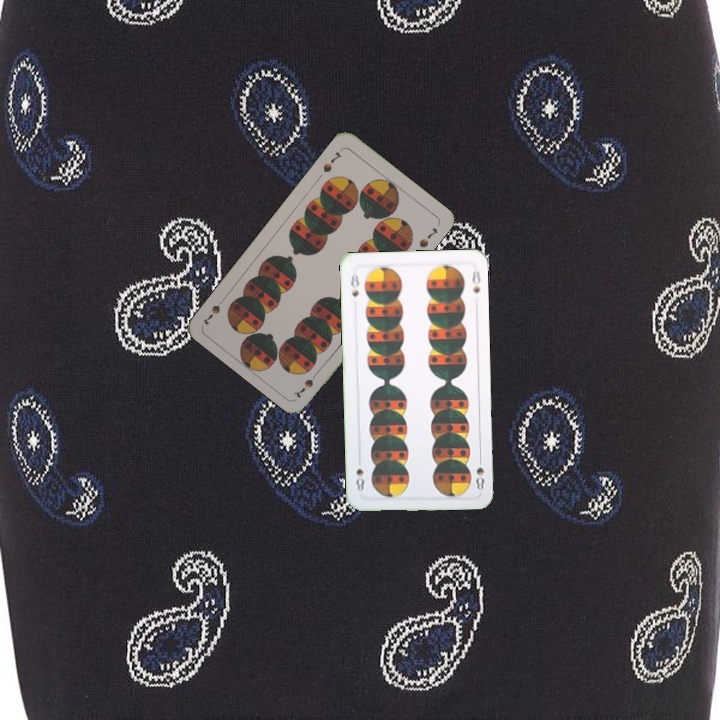S7: (290, 366, 322, 400), (319, 147, 344, 175)
S8: (472, 452, 487, 493), (346, 270, 361, 299)
